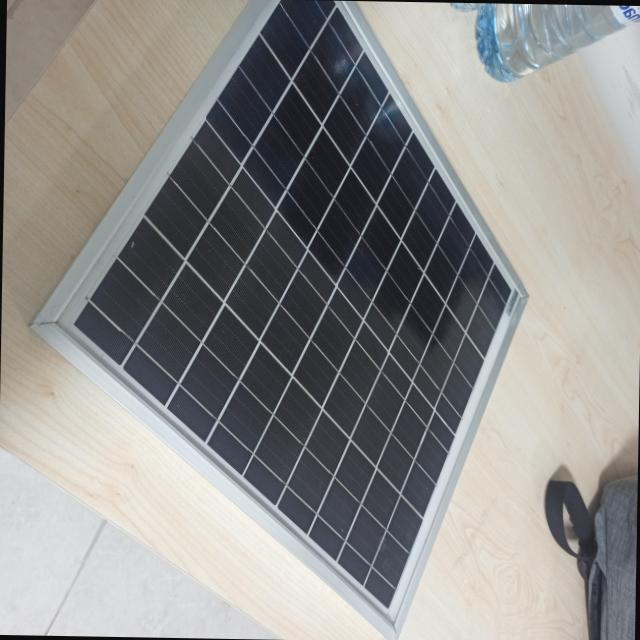no faulty: (50, 0, 524, 630)
